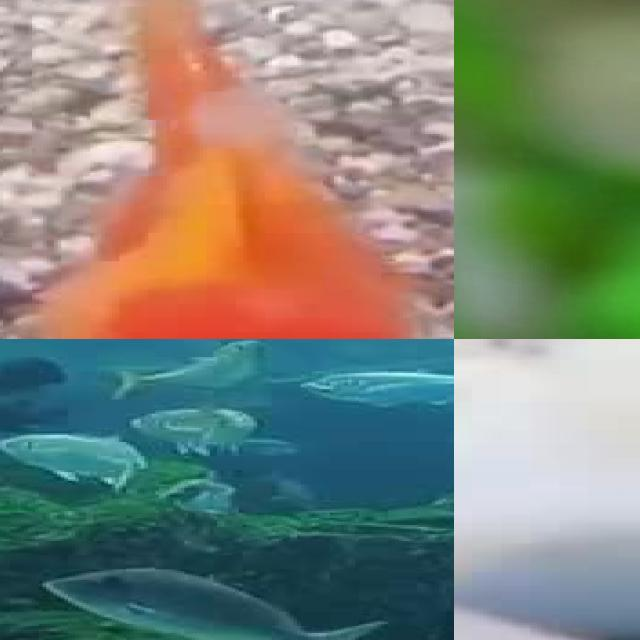fish: (0, 0, 454, 339), (454, 339, 640, 640), (38, 558, 395, 640)
